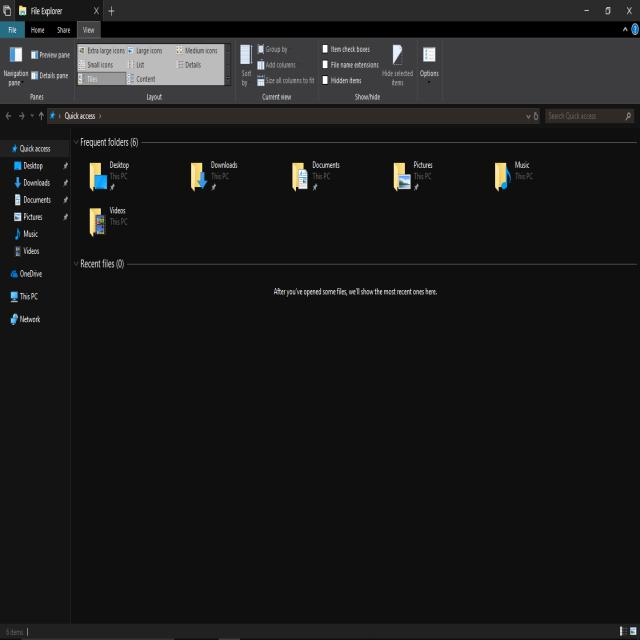button: (484, 152, 587, 200), (383, 153, 477, 197), (184, 154, 270, 197), (283, 154, 367, 197), (83, 202, 170, 242), (85, 158, 170, 194), (382, 39, 416, 98), (1, 39, 27, 103), (17, 1, 102, 20), (418, 38, 442, 97), (4, 310, 66, 330), (9, 223, 69, 243), (4, 138, 70, 156), (12, 190, 69, 210), (236, 39, 255, 99), (8, 243, 68, 261), (28, 43, 75, 65), (10, 158, 70, 175), (3, 266, 65, 282), (255, 73, 317, 88), (4, 290, 65, 305), (10, 209, 70, 224), (28, 65, 75, 84), (11, 176, 68, 191), (256, 57, 304, 73), (172, 43, 224, 56), (126, 70, 173, 84), (78, 57, 125, 71), (255, 41, 294, 57), (173, 57, 224, 69), (77, 44, 126, 56), (77, 72, 125, 84), (126, 57, 171, 69), (126, 44, 171, 55), (618, 0, 640, 21), (597, 0, 618, 21), (576, 0, 596, 22), (76, 22, 102, 38), (25, 22, 49, 38), (50, 22, 74, 38), (1, 22, 24, 38), (15, 103, 27, 127), (1, 0, 15, 20), (2, 105, 14, 127), (104, 2, 120, 18), (617, 624, 629, 640), (629, 623, 639, 640), (36, 107, 45, 125), (630, 24, 640, 36), (532, 109, 540, 123), (620, 24, 629, 36), (92, 4, 100, 16), (28, 107, 33, 126), (626, 110, 632, 121), (526, 110, 530, 123), (225, 46, 230, 55), (225, 61, 230, 69), (226, 74, 230, 82)
field: (49, 108, 542, 126), (548, 108, 634, 125), (322, 44, 371, 55), (322, 61, 379, 70), (322, 76, 362, 85)
